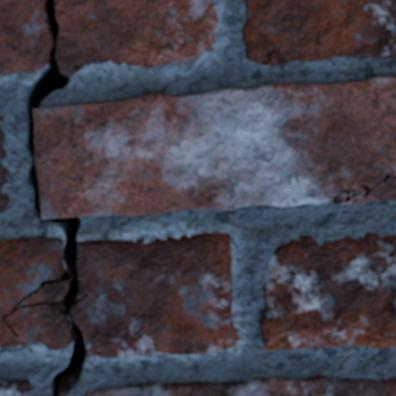brick: (35, 77, 395, 217), (261, 234, 395, 350), (243, 0, 395, 64), (86, 375, 395, 395), (341, 178, 395, 204), (0, 125, 9, 211), (0, 382, 30, 395)
broken_brick: (73, 233, 239, 360), (56, 0, 219, 78), (0, 236, 63, 347), (0, 0, 48, 74), (6, 306, 71, 351)
crack: (1, 0, 90, 395), (322, 173, 395, 205)
